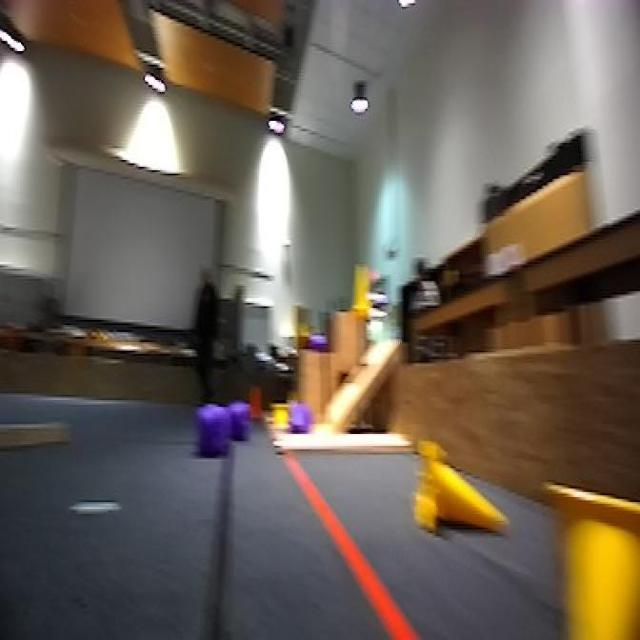frc_cone: (545, 466, 640, 639), (415, 441, 497, 543), (352, 262, 374, 318), (270, 405, 292, 429)
frc_cube: (193, 409, 227, 451), (227, 400, 252, 444), (304, 330, 330, 351), (288, 405, 308, 432)
